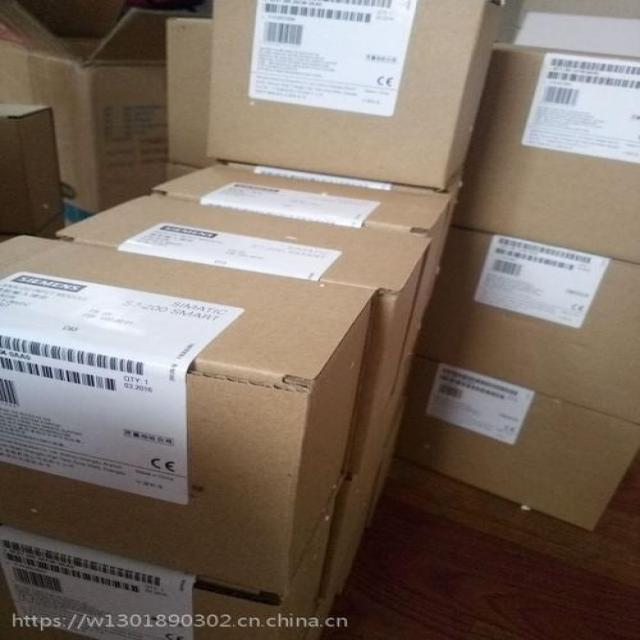Carton: (0, 188, 436, 599), (155, 0, 507, 224), (396, 228, 639, 530)
